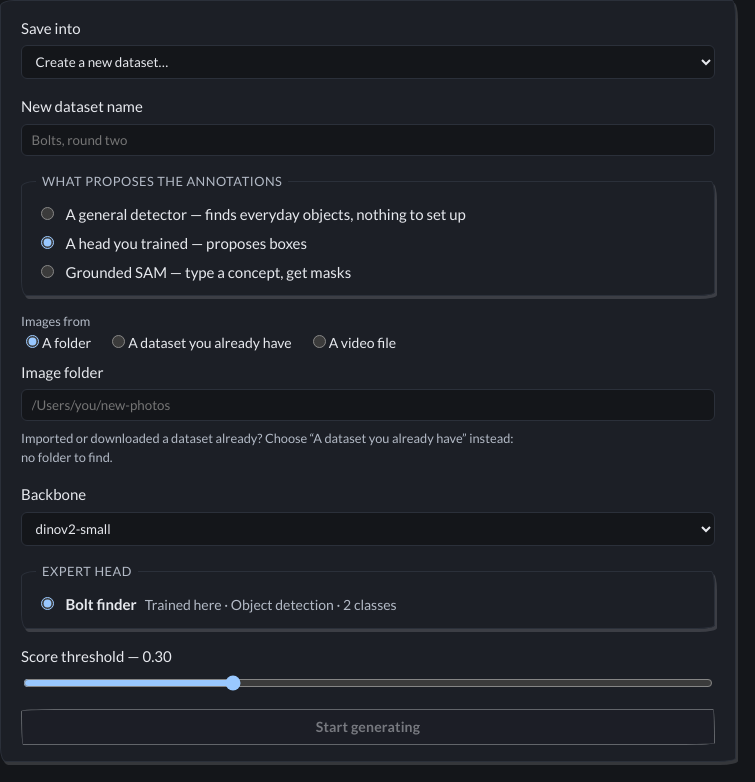
Test case: GeneratorSetup › enables Start once every field has an effective value
Expected: the radio button labelled "Bolt finder Trained here · Object detection · 2 classes" is shown, top-left (41, 597), bottom-right (54, 610)
Select "Bolts (3 images)" in the dropdown labelled "Save into": [368, 62] box top-left (21, 45), bottom-right (715, 80)
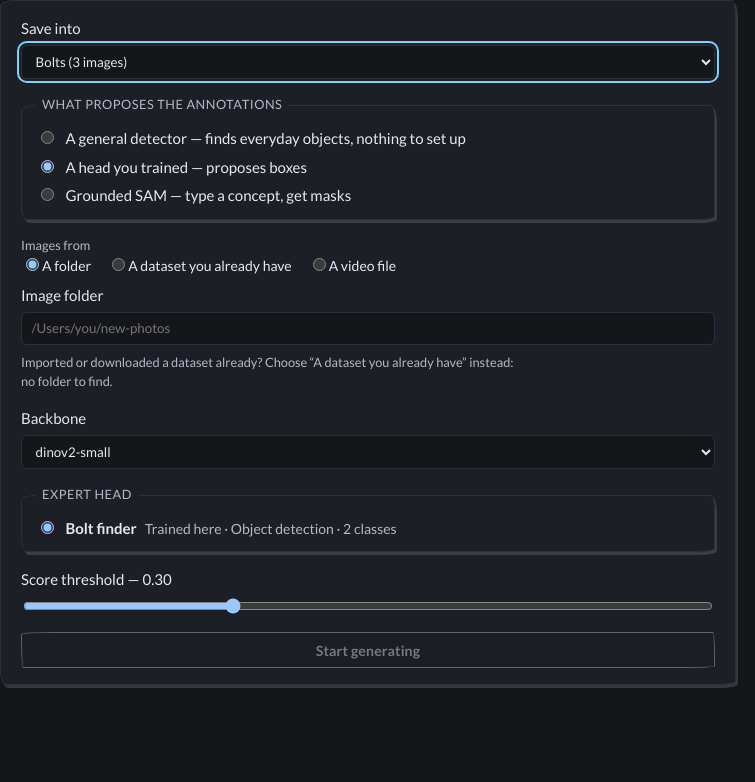
In the field labelled "Image folder": [368, 328] box top-left (21, 312), bottom-right (715, 345), type "/photos"
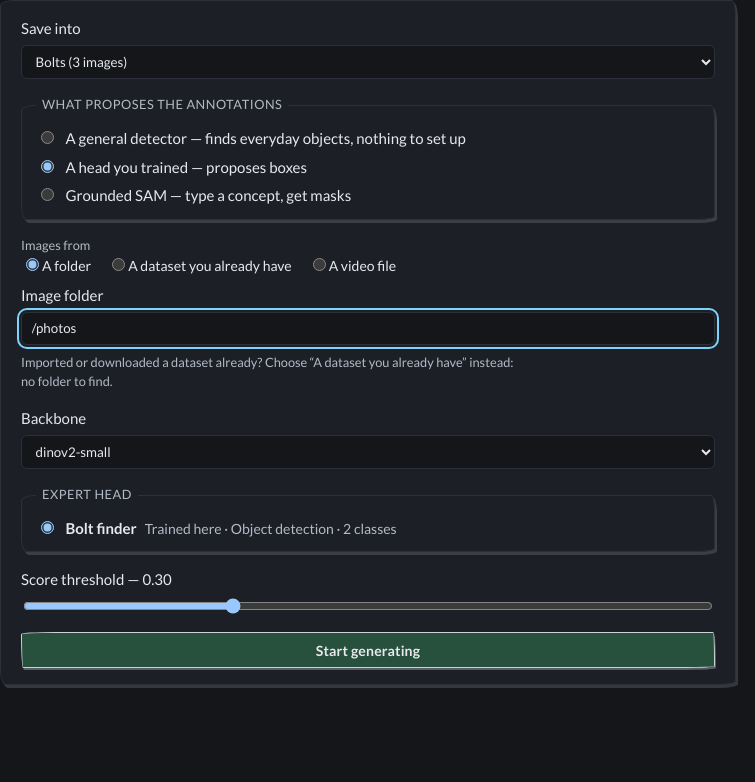
Expected: the button "Start generating" is enabled, top-left (21, 632), bottom-right (715, 668)
